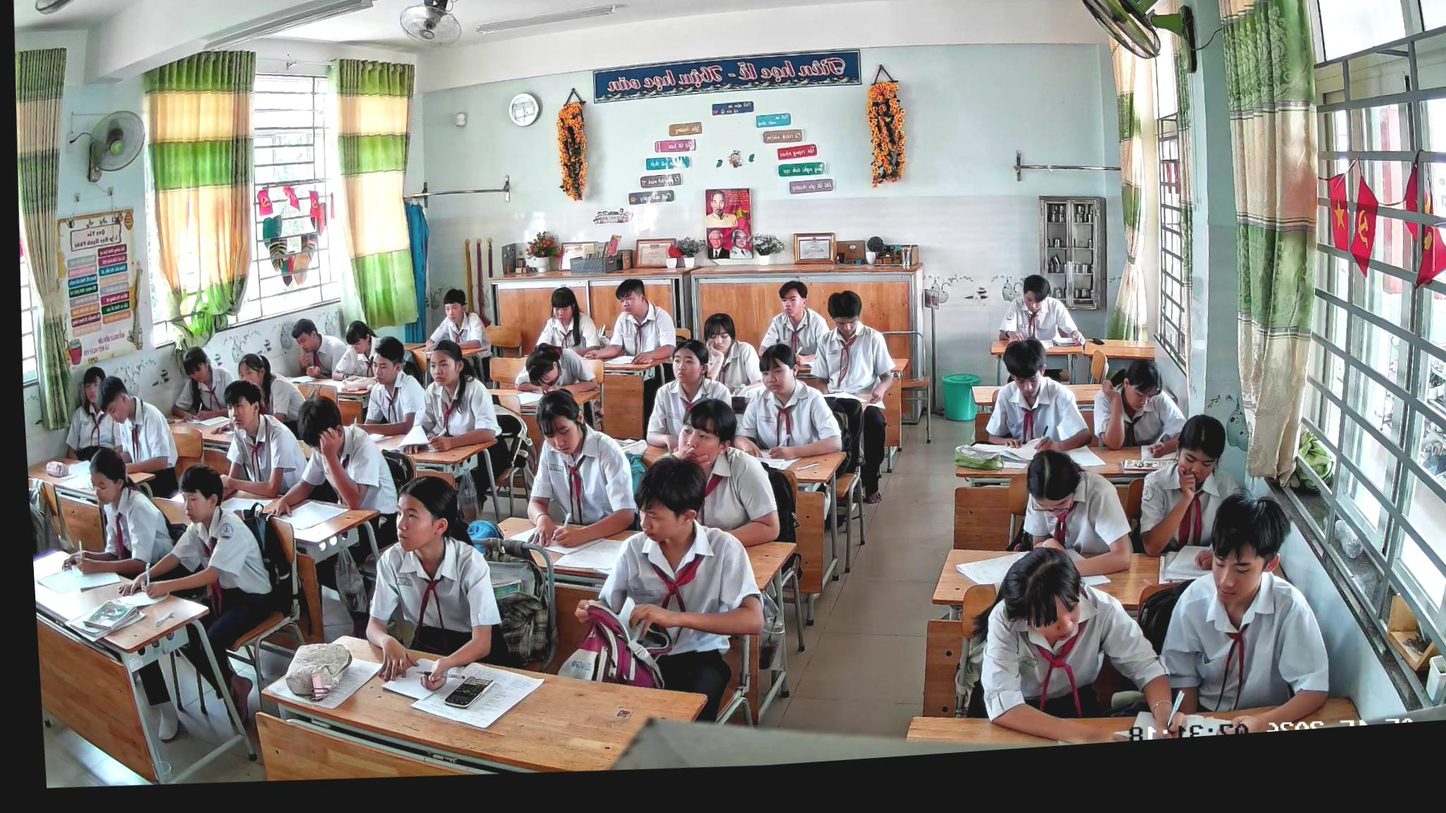person: (1153, 480, 1342, 735), (971, 532, 1184, 751), (565, 447, 771, 647), (352, 465, 513, 696), (110, 461, 274, 610), (514, 377, 647, 554), (640, 388, 781, 537), (267, 389, 400, 530), (1014, 439, 1140, 587), (1130, 409, 1246, 559), (973, 330, 1099, 460), (54, 440, 168, 582), (392, 335, 514, 461), (728, 336, 848, 460), (206, 373, 310, 503), (1089, 352, 1201, 466), (803, 283, 899, 406), (638, 337, 737, 454), (93, 376, 186, 486), (582, 272, 681, 368), (354, 331, 429, 441), (753, 273, 836, 368), (993, 269, 1087, 345), (58, 358, 120, 469), (415, 283, 499, 361), (510, 334, 602, 405), (168, 341, 239, 427), (524, 282, 602, 358), (234, 345, 308, 425), (328, 319, 404, 393), (697, 307, 758, 391), (287, 311, 346, 385)
